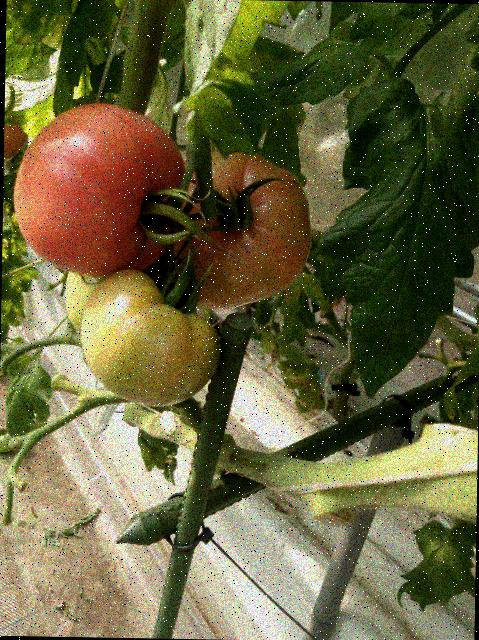b_fully_ripened: (11, 102, 186, 281)
b_green: (80, 269, 222, 408)
b_half_ripened: (165, 147, 312, 313), (3, 115, 29, 164)
